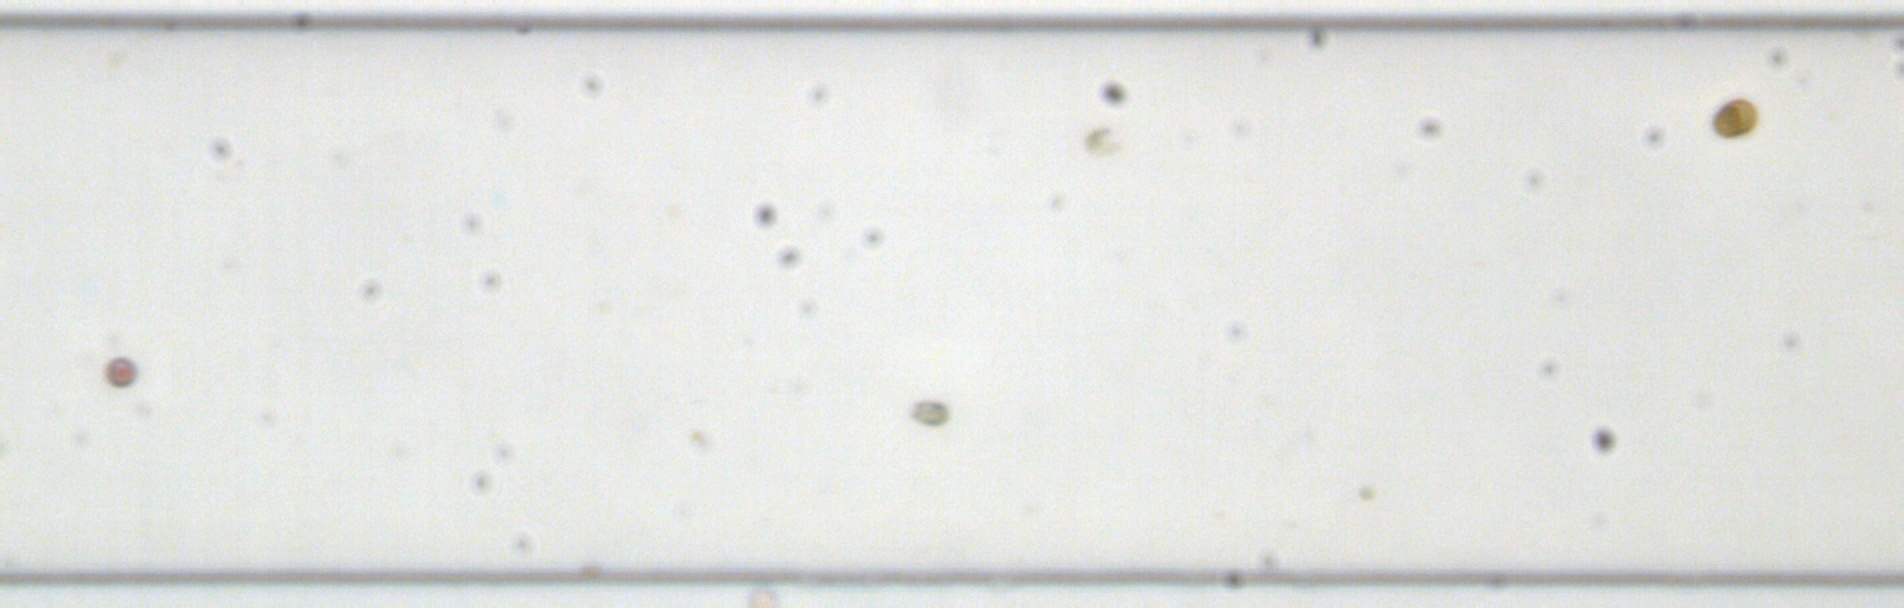Dunaliella salina: (905, 396, 950, 430), (1082, 125, 1117, 157)
Effrenium: (1708, 96, 1761, 141)
Porphyridium: (102, 354, 138, 388)
